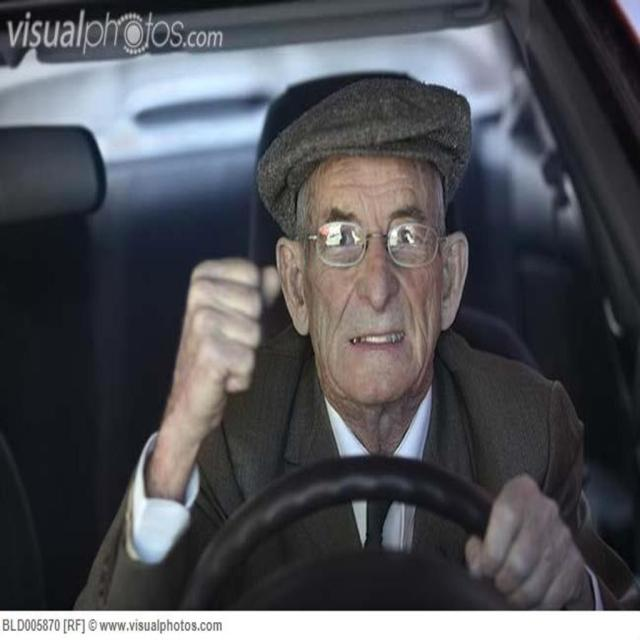Face: (303, 155, 436, 410)
